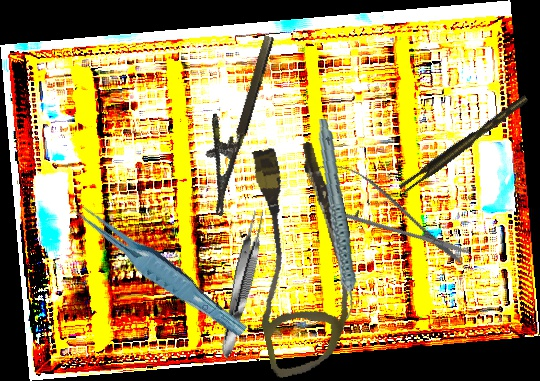Cannula: (226, 135, 377, 380)
Handpiece: (300, 118, 371, 320)
Micro Scissor: (293, 148, 479, 280)
Needle Holder: (185, 27, 277, 217)
Tissue Forceps: (70, 188, 249, 350), (396, 94, 533, 195), (214, 209, 270, 360)
